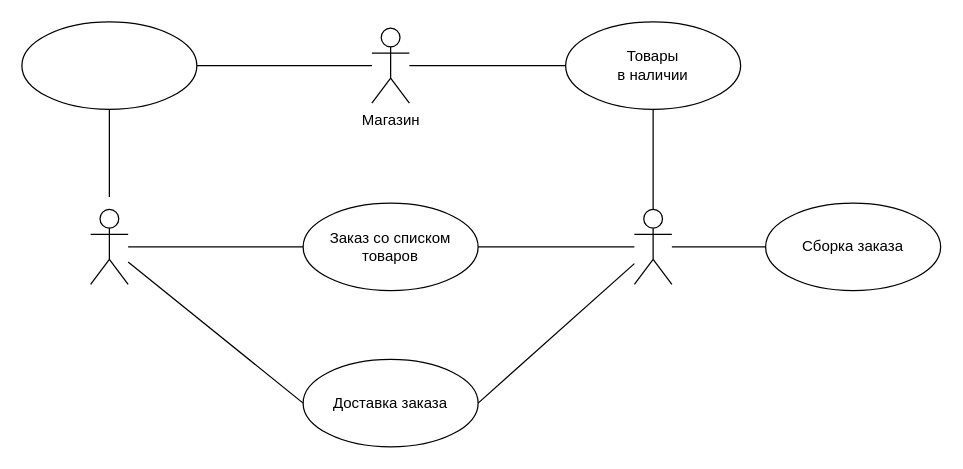
This 963x469 diagram has some shape labels left out. Each missing label, with the centre of its shape:
"Каталог товаров" belongs at point (109, 65).
"Покупатель" belongs at point (108, 246).
"Служба доставки" belongs at point (652, 246).
